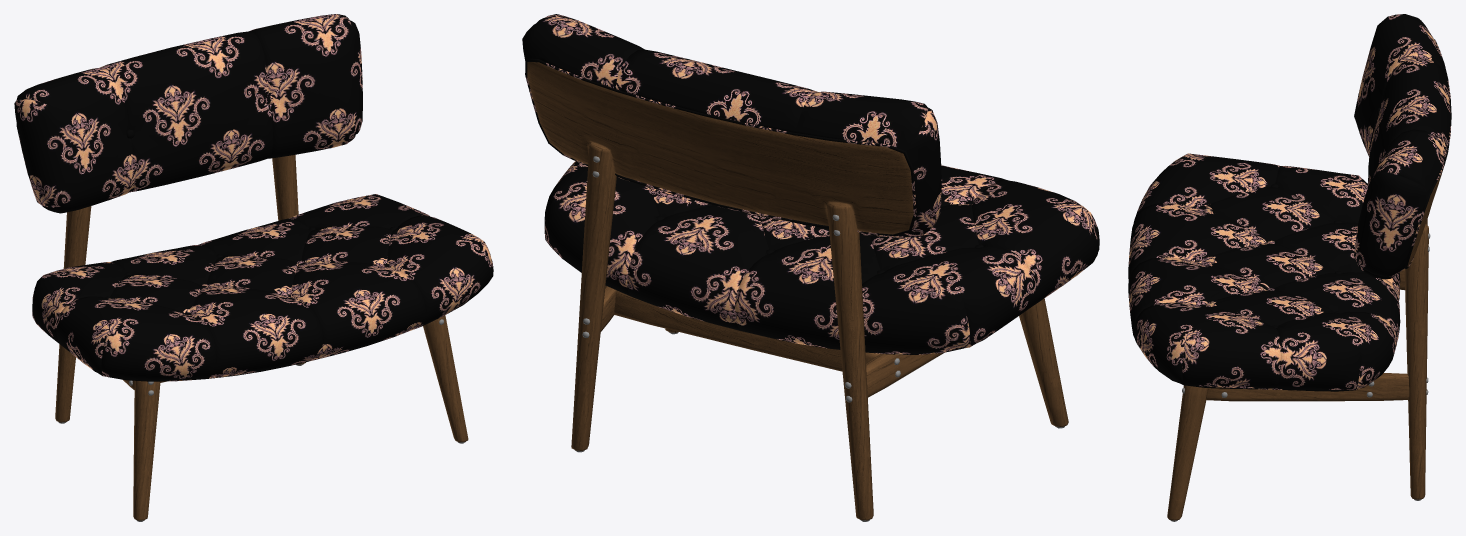
Rendered from ChairDamaskPurplegold.glb.
3 views of the same model, side by side, from view 1: azimuth 30°, elevation 25°; view 2: azimuth 150°, elevation 25°; view 3: azimuth 270°, elevation 25° (orthographic). The views are drawn at different scales.
Parts seen in each view (by area): view 1: oval-tufted-chair_seat-fabric, oval-tufted-chair_back-fabric, oval-tufted-chair_legs-frame; view 2: oval-tufted-chair_seat-fabric, oval-tufted-chair_back-panel, oval-tufted-chair_legs-frame, oval-tufted-chair_back-fabric, oval-tufted-chair_back-welt; view 3: oval-tufted-chair_seat-fabric, oval-tufted-chair_back-fabric, oval-tufted-chair_legs-frame, oval-tufted-chair_back-welt, oval-tufted-chair_back-panel.
Boxes of the visible parts, x1,y1,x2,y2 form: oval-tufted-chair_seat-fabric: (32, 194, 493, 380); oval-tufted-chair_back-fabric: (14, 14, 362, 213); oval-tufted-chair_legs-frame: (55, 154, 468, 520); oval-tufted-chair_seat-fabric: (544, 161, 1099, 354); oval-tufted-chair_back-panel: (527, 62, 913, 234); oval-tufted-chair_legs-frame: (571, 142, 1068, 520); oval-tufted-chair_back-fabric: (522, 14, 941, 237); oval-tufted-chair_back-welt: (525, 58, 916, 236); oval-tufted-chair_seat-fabric: (1128, 153, 1400, 390); oval-tufted-chair_back-fabric: (1354, 14, 1450, 279); oval-tufted-chair_legs-frame: (1167, 219, 1428, 520); oval-tufted-chair_back-welt: (1404, 39, 1451, 268); oval-tufted-chair_back-panel: (1407, 169, 1443, 266).
Size of the model in its own units: 0.8286 by 0.6874 by 0.5718.
4 materials, 3 textured.
